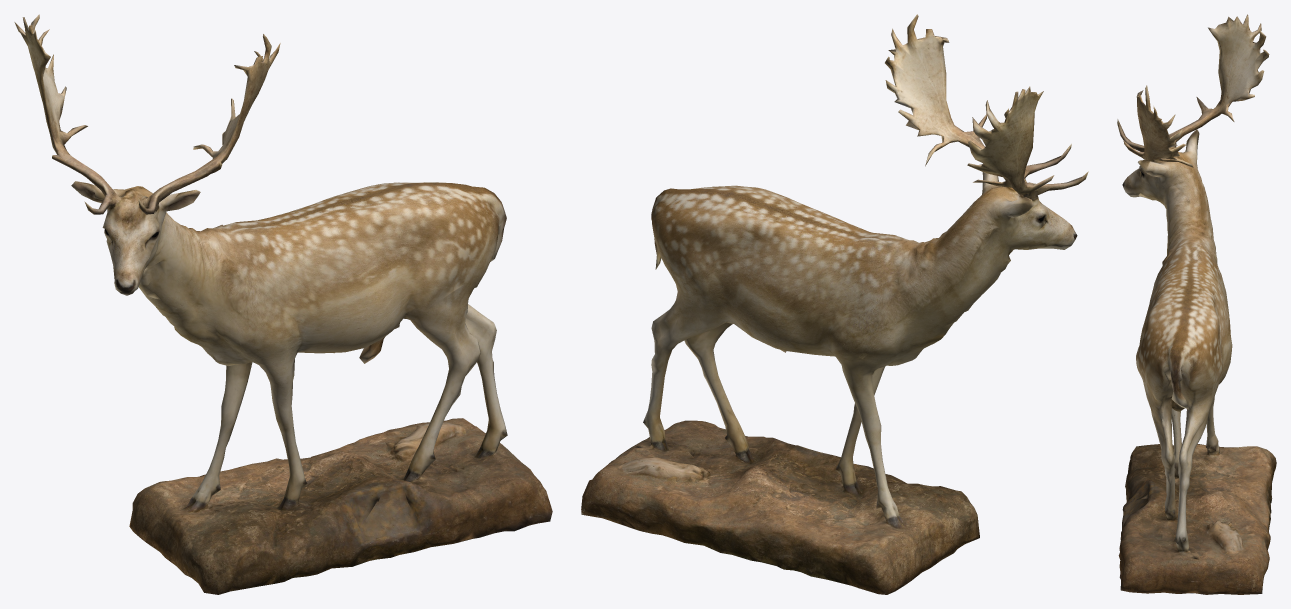
Rendered from deer.gltf.
3 views of the same model, side by side, from view 1: azimuth 30°, elevation 25°; view 2: azimuth 150°, elevation 25°; view 3: azimuth 270°, elevation 25° (orthographic). The views are drawn at different scales.
Visible parts, largest first — view 1: M32070_FallowDeer_forSK_02_2; view 2: M32070_FallowDeer_forSK_02_2; view 3: M32070_FallowDeer_forSK_02_2.
Part boxes in pixels (x1,y1,x2,y2): M32070_FallowDeer_forSK_02_2: (14, 14, 552, 594); M32070_FallowDeer_forSK_02_2: (581, 14, 1088, 594); M32070_FallowDeer_forSK_02_2: (1117, 14, 1276, 594).
Size of the model in its own units: 1.5 by 1.7 by 0.5925.
Materials: 2 (1 with a texture image).
